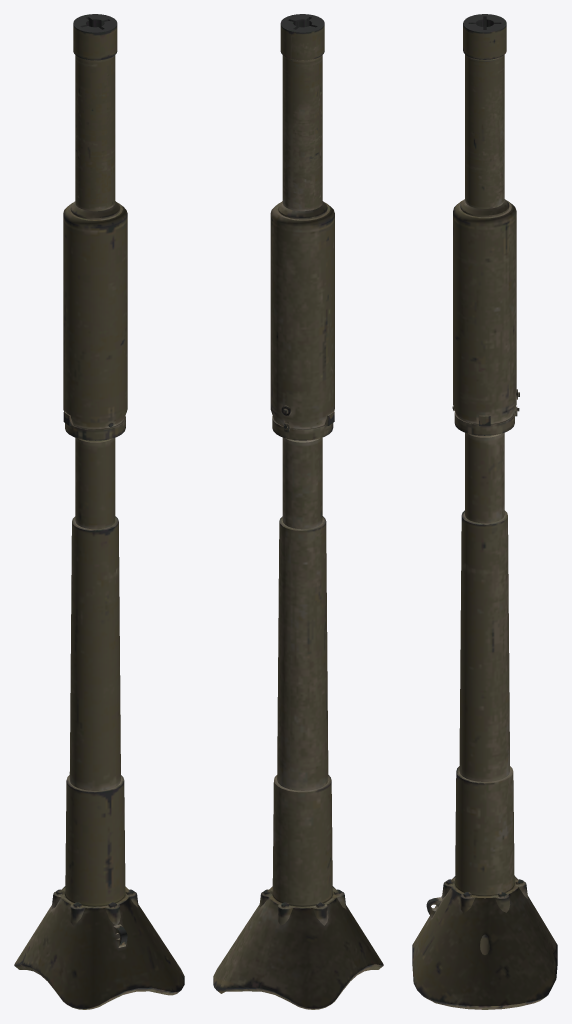
File: Gun_01.glb
3 views of the same model, side by side, from view 1: azimuth 30°, elevation 25°; view 2: azimuth 150°, elevation 25°; view 3: azimuth 270°, elevation 25° (orthographic).
Parts seen in each view (by area): view 1: set_0_group_0; view 2: set_0_group_0; view 3: set_0_group_0.
Boxes of the visible parts, x1,y1,x2,y2 form: set_0_group_0: (14,14,184,1009); set_0_group_0: (213,14,383,1009); set_0_group_0: (412,14,557,1009).
Bounding box in the file's own units: 0.7109 × 4.83 × 0.6687.
Materials: 1 (1 with a texture image).
